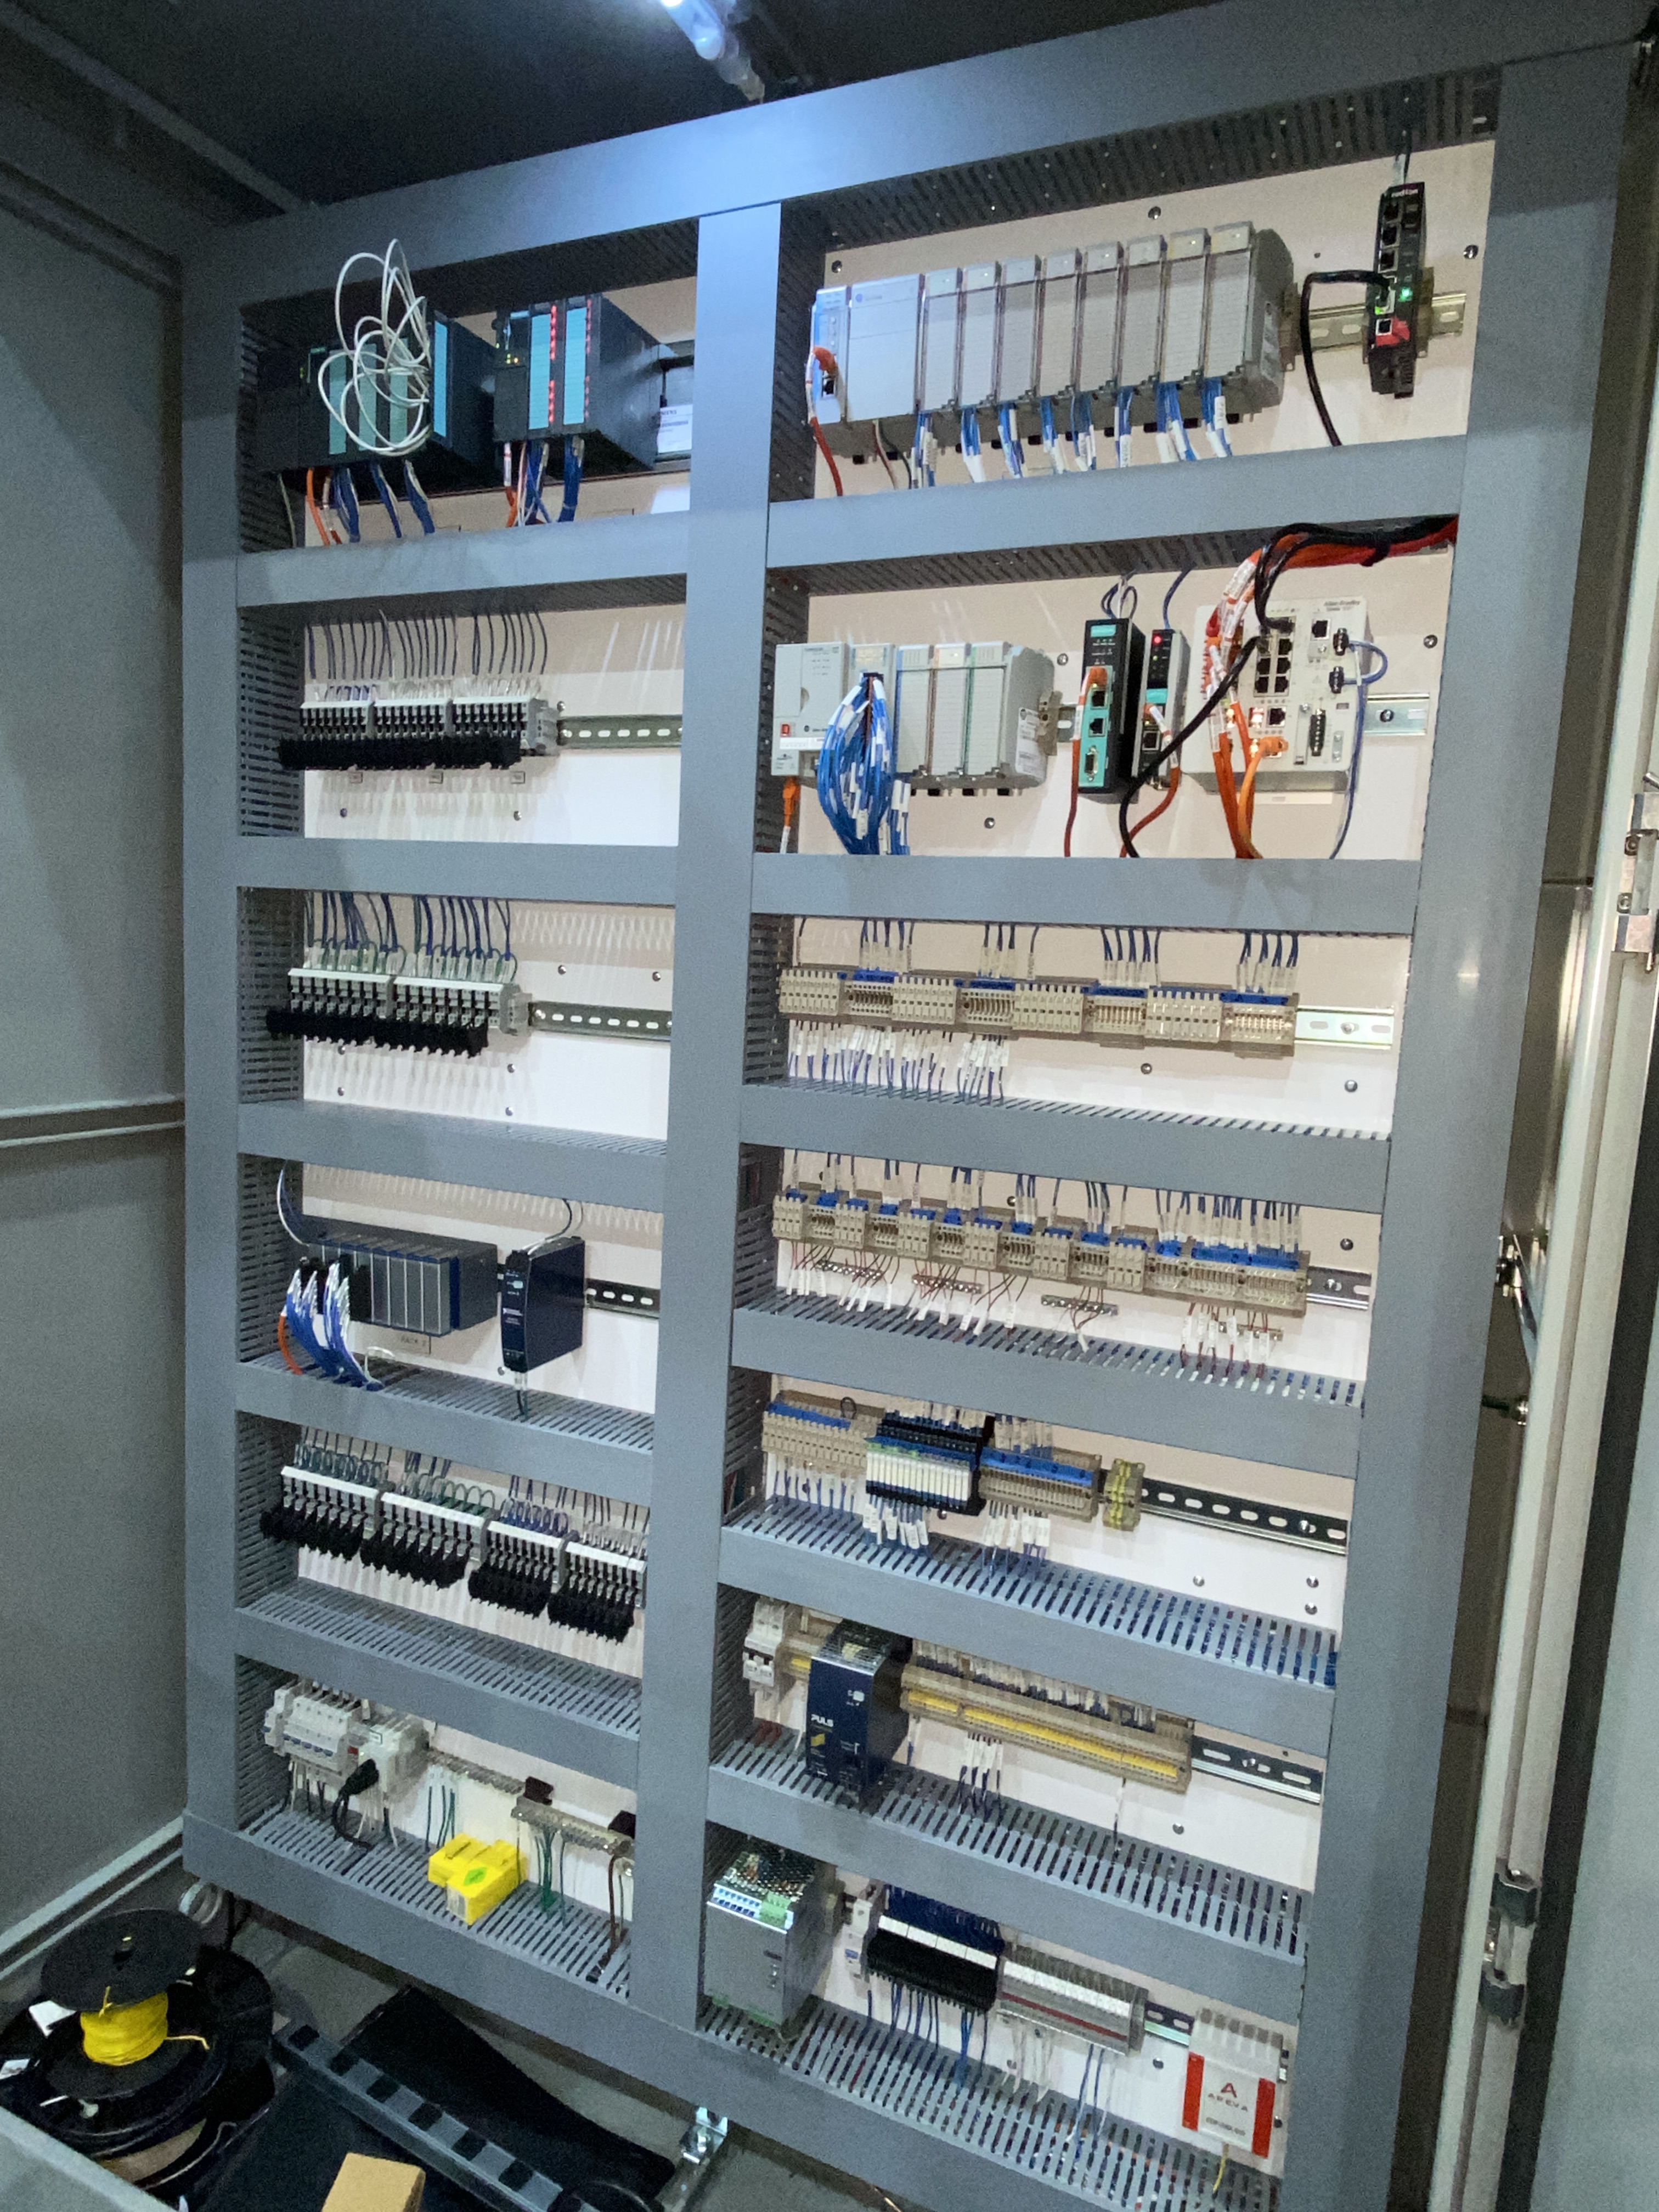AllenBradley: (772, 643, 840, 782)
Siemens: (300, 345, 331, 469)
